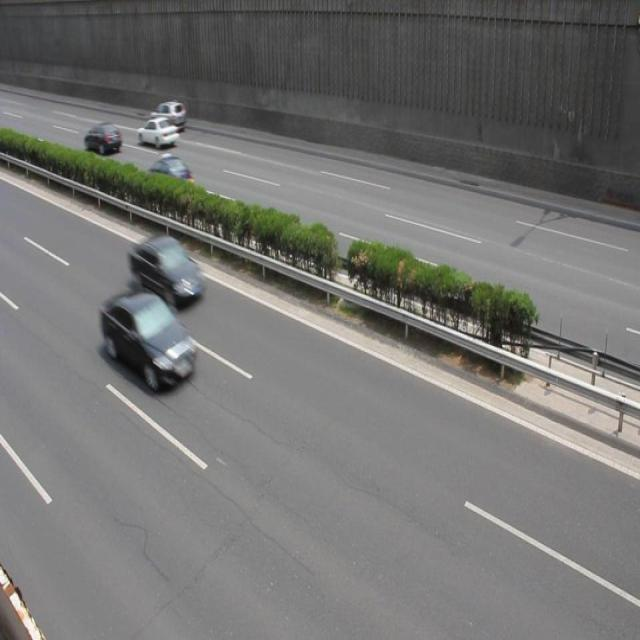car: (101, 288, 195, 391), (128, 234, 205, 312), (144, 156, 196, 200), (137, 115, 180, 150), (85, 122, 121, 155), (150, 101, 187, 130)
